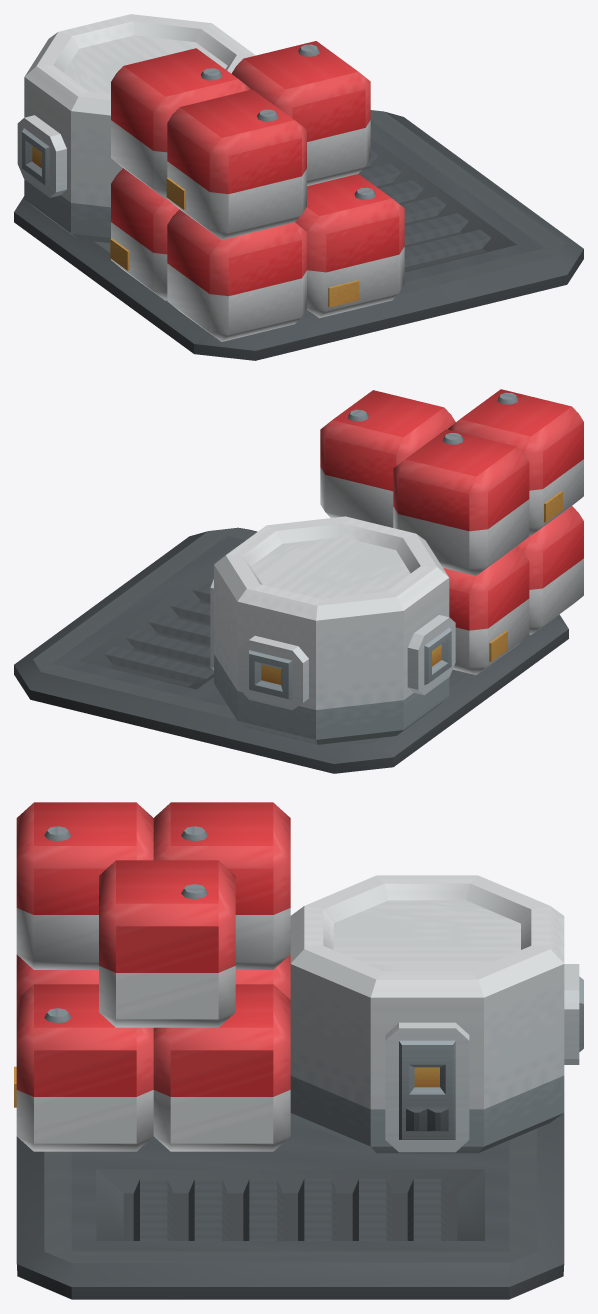
The model's file is cargodepot-a.glb.
The picture shows the model from 3 angles, top to bottom: view 1: azimuth 30°, elevation 25°; view 2: azimuth 150°, elevation 25°; view 3: azimuth 270°, elevation 25°; orthographic projection. The views are drawn at different scales.
Parts seen in each view (by area): view 1: cargodepot_A; view 2: cargodepot_A; view 3: cargodepot_A.
Boxes of the visible parts, x1,y1,x2,y2 form: cargodepot_A: [14, 14, 583, 360]; cargodepot_A: [14, 389, 583, 773]; cargodepot_A: [14, 802, 583, 1299].
Bounding box in the file's own units: 2.07 × 1.12 × 2.08.
1 material, 1 textured.
